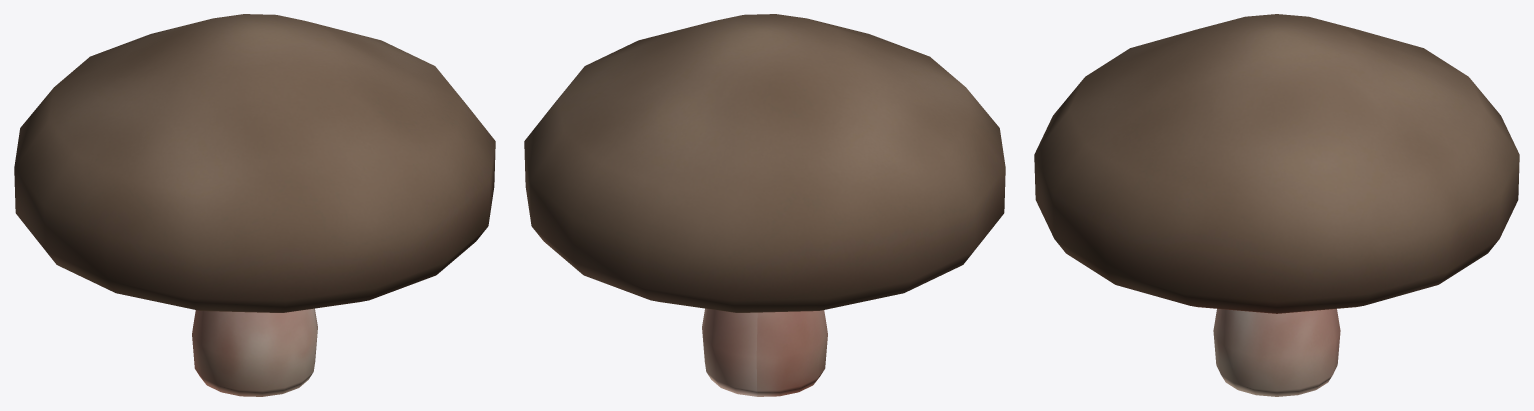
The model's file is fungo2.fbx.
3 views of the same model, side by side, from view 1: azimuth 30°, elevation 25°; view 2: azimuth 150°, elevation 25°; view 3: azimuth 270°, elevation 25° (orthographic).
Parts seen in each view (by area): view 1: fungo2; view 2: fungo2; view 3: fungo2.
Boxes of the visible parts, x1,y1,x2,y2 form: fungo2: (14, 14, 495, 396); fungo2: (524, 14, 1005, 396); fungo2: (1034, 14, 1519, 396).
Size of the model in its own units: 3.55 by 2.75 by 3.55.
